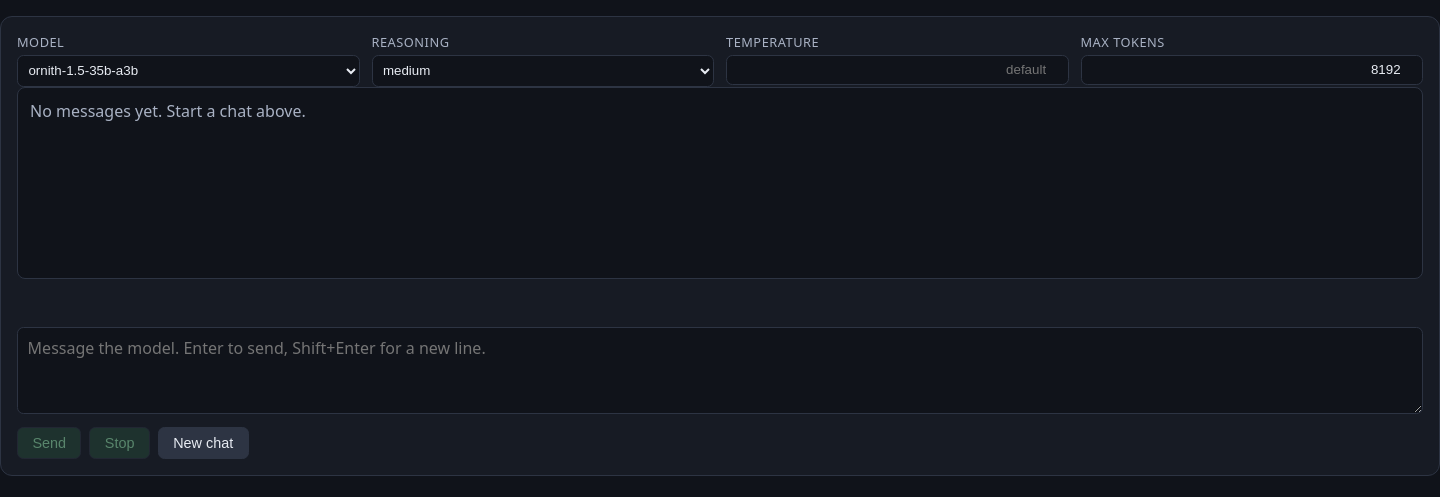
it: ChatPlayground › shows an upstream error event in the status line
This screenshot has width=1440, height=497.
Replace the text in the text box with test id "prompt-input" with "Go" at (720, 370), box [17,327,1423,414]
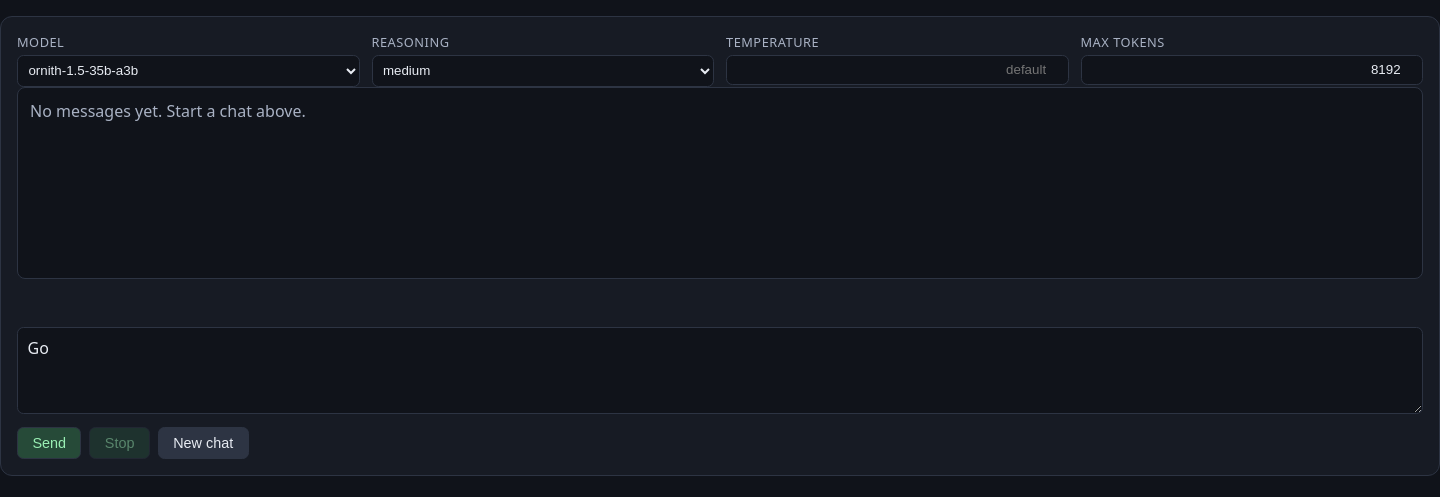
Click the button with test id "send-button" at (49, 443), box [17,427,81,459]
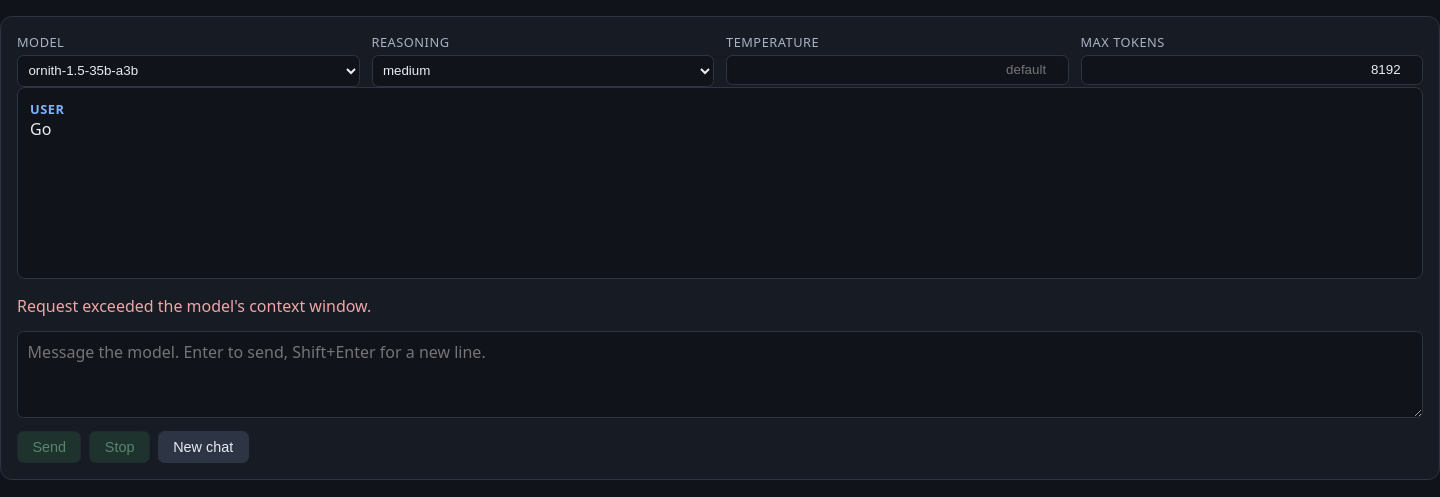
Result: the text with test id "error-banner" reads "Request exceeded the model's context window." at [17,295,371,317]
